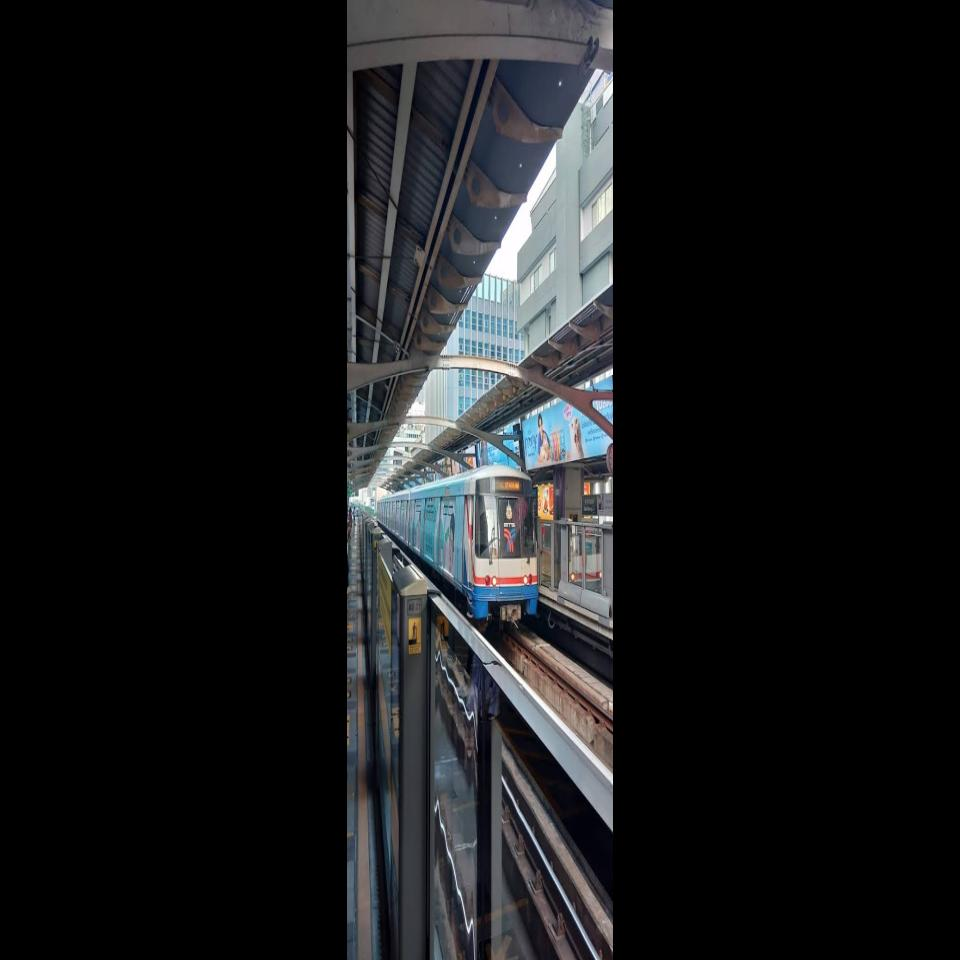Sala Daeng: (581, 493, 598, 516), (598, 492, 614, 516)
